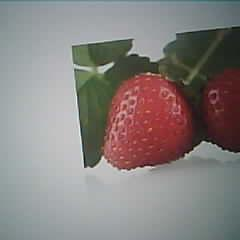straw-ripe: (104, 73, 193, 168)
